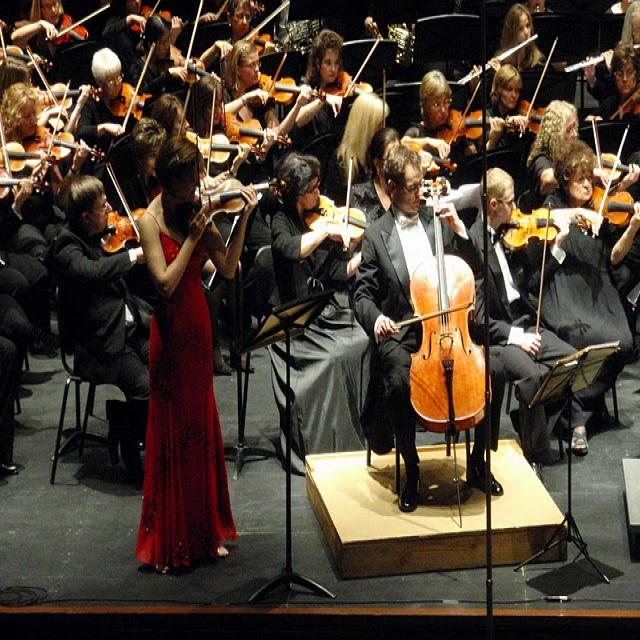cello: (408, 177, 490, 437)
violin: (435, 108, 524, 151), (194, 177, 280, 220), (502, 208, 592, 248), (27, 128, 105, 168), (306, 194, 368, 244), (184, 131, 267, 168), (221, 111, 292, 147), (100, 209, 155, 251), (258, 75, 326, 108), (590, 187, 640, 231), (109, 82, 155, 121), (50, 16, 90, 56), (328, 70, 372, 103), (519, 100, 555, 140), (0, 170, 42, 203), (598, 152, 638, 186), (249, 31, 283, 58), (0, 143, 27, 172), (619, 85, 640, 122)
